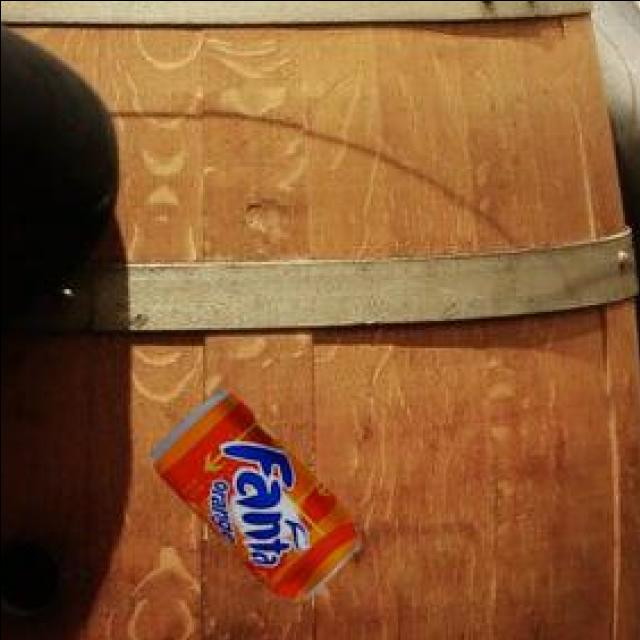logam: (146, 387, 355, 598)
